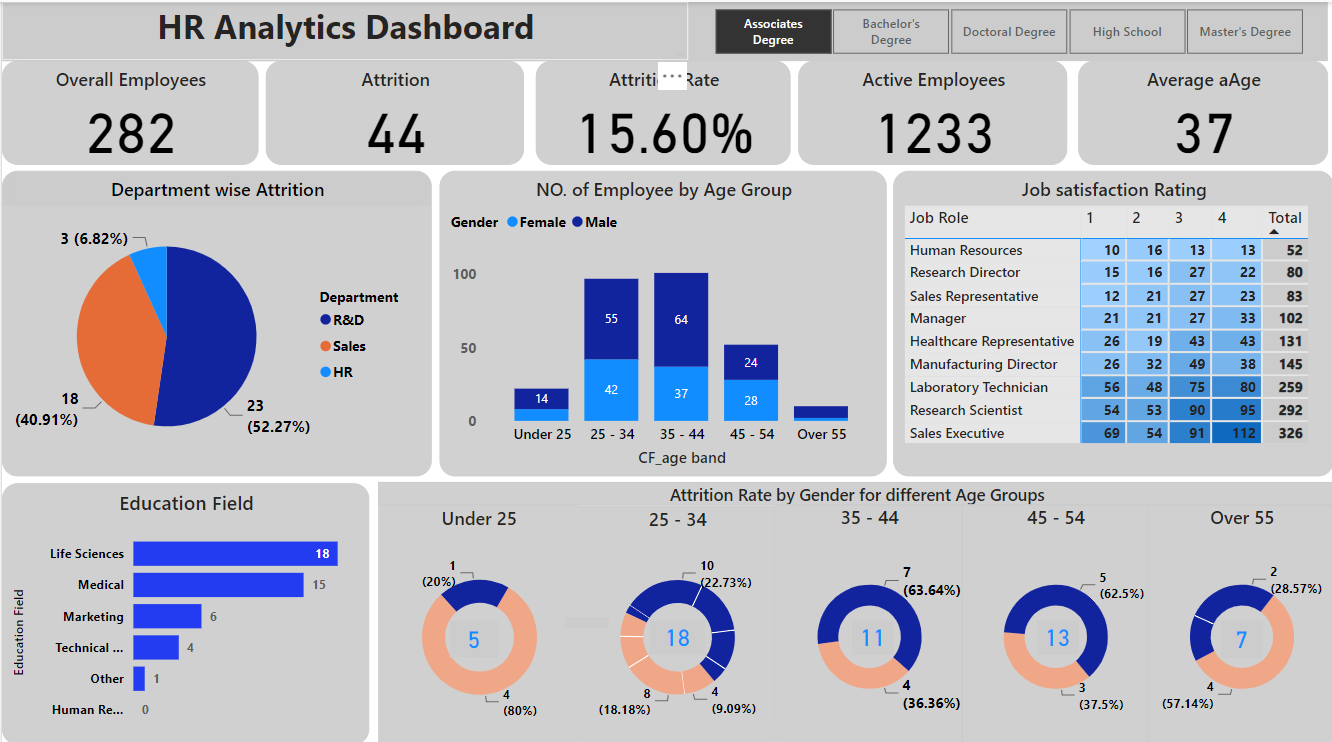

Layout of this report page (visuals, bound fields, positions):
{"tool":"powerbi","page":{"name":"Page 1","canvas":[1280,720],"ordinal":0},"visuals":[{"type":"card","title":"Overall Employees","fields":{"Values":["Sum(HR data.Employee Count)"]},"box":[0,56,246.1,100],"z":0},{"type":"card","title":"Attrition","fields":{"Values":["Sum(HR data.Attrition Count)"]},"box":[253.5,56,248.2,100],"z":1000},{"type":"card","title":"Attrition Rate","fields":{"Values":["HR data.Attrition Rate"]},"box":[512.2,56,245,100],"z":2000},{"type":"card","title":"Active Employees","fields":{"Values":["HR data.Active Employees"]},"box":[764.6,56,258.7,100],"z":3000},{"type":"card","title":"Average aAge","fields":{"Values":["Avg(HR data.Age)"]},"box":[1033.9,56,239.7,100],"z":4000},{"type":"pieChart","title":" Department wise Attrition","fields":{"Category":["HR data.Department"],"Y":["Sum(HR data.Attrition Count)"]},"box":[0,162.6,412.9,293.6],"z":5000},{"type":"columnChart","title":"NO. of Employee by Age Group","fields":{"Category":["HR data.CF_age band"],"Y":["Sum(HR data.Employee Count)"],"Series":["HR data.Gender"]},"box":[420.3,162.6,429.8,293.6],"z":6000},{"type":"pivotTable","title":"Job satisfaction Rating","fields":{"Rows":["HR data.Job Role"],"Columns":["HR data.Job Satisfaction"],"Values":["Sum(HR data.Employee Count)"]},"box":[856.5,162.6,423.5,293.6],"z":7000},{"type":"barChart","title":"Education Field","fields":{"Category":["HR data.Education Field"],"Y":["Sum(HR data.Attrition Count)"]},"box":[0,462.3,353,251],"z":8000},{"type":"donutChart","title":"Under 25","fields":{"Category":["HR data.Gender"],"Y":["Sum(HR data.Attrition Count)"],"Series":["HR data.CF_age band"]},"box":[361.2,482.6,192.2,230.2],"z":9000},{"type":"textbox","title":"Attrition Rate by Gender for different Age Groups ","box":[361.7,461,918.3,22.1],"z":10000},{"type":"donutChart","title":"25 - 34","fields":{"Category":["HR data.Gender"],"Y":["Sum(HR data.Attrition Count)"],"Series":["HR data.CF_age band"]},"box":[553.5,483.9,189.7,229],"z":11000},{"type":"donutChart","title":"35 - 44","fields":{"Category":["HR data.Gender"],"Y":["Sum(HR data.Attrition Count)"],"Series":["HR data.CF_age band"]},"box":[743,483.1,179,230.5],"z":12000},{"type":"donutChart","title":"45 - 54","fields":{"Category":["HR data.Gender"],"Y":["Sum(HR data.Attrition Count)"],"Series":["HR data.CF_age band"]},"box":[922,483.1,179,230.5],"z":13000},{"type":"donutChart","title":"Over 55","fields":{"Category":["HR data.Gender"],"Y":["Sum(HR data.Attrition Count)"],"Series":["HR data.CF_age band"]},"box":[1101,483.1,179,230.5],"z":14000},{"type":"card","fields":{"Values":["Sum(HR data.Attrition Count)"]},"box":[430.3,594.6,46.6,35.6],"z":15000},{"type":"card","fields":{"Values":["Sum(HR data.Attrition Count)"]},"box":[540.3,590.8,42,7.2],"z":16000},{"type":"card","fields":{"Values":["Sum(HR data.Attrition Count)"]},"box":[621.6,594.6,53.9,31.9],"z":17000},{"type":"card","fields":{"Values":["Sum(HR data.Attrition Count)"]},"box":[816.5,594.4,39.6,32.4],"z":18000},{"type":"card","fields":{"Values":["Sum(HR data.Attrition Count)"]},"box":[994.2,594.4,39.6,32.4],"z":19000},{"type":"card","fields":{"Values":["Sum(HR data.Attrition Count)"]},"box":[1170.7,594.4,39.6,36],"z":20000},{"type":"textbox","title":"HR Analytics Dashboard","box":[0,0,659.2,56.4],"z":21000},{"type":"slicer","fields":{"Values":["HR data.Education"]},"box":[659.2,0,614.8,56.4],"z":21001}]}

Visuals, with their boxes in screenshot pixels (x1, y1, x2, y2), scaled from the page's 1280x720 canvas onto the 1332x742 screenshot:
"Overall Employees" card: crop(0, 58, 256, 161)
"Attrition" card: crop(264, 58, 522, 161)
"Attrition Rate" card: crop(533, 58, 788, 161)
"Active Employees" card: crop(796, 58, 1065, 161)
"Average aAge" card: crop(1076, 58, 1325, 161)
" Department wise Attrition" pieChart: crop(0, 168, 430, 470)
"NO. of Employee by Age Group" columnChart: crop(437, 168, 885, 470)
"Job satisfaction Rating" pivotTable: crop(891, 168, 1331, 470)
"Education Field" barChart: crop(0, 476, 367, 735)
"Under 25" donutChart: crop(376, 497, 576, 735)
"Attrition Rate by Gender for different Age Groups " textbox: crop(376, 475, 1331, 498)
"25 - 34" donutChart: crop(576, 499, 773, 735)
"35 - 44" donutChart: crop(773, 498, 959, 735)
"45 - 54" donutChart: crop(959, 498, 1146, 735)
"Over 55" donutChart: crop(1146, 498, 1331, 735)
card - Sum(HR data.Attrition Count): crop(448, 613, 496, 649)
card - Sum(HR data.Attrition Count): crop(562, 609, 606, 616)
card - Sum(HR data.Attrition Count): crop(647, 613, 703, 646)
card - Sum(HR data.Attrition Count): crop(850, 613, 891, 646)
card - Sum(HR data.Attrition Count): crop(1035, 613, 1076, 646)
card - Sum(HR data.Attrition Count): crop(1218, 613, 1259, 650)
"HR Analytics Dashboard" textbox: crop(0, 0, 686, 58)
slicer - HR data.Education: crop(686, 0, 1326, 58)
